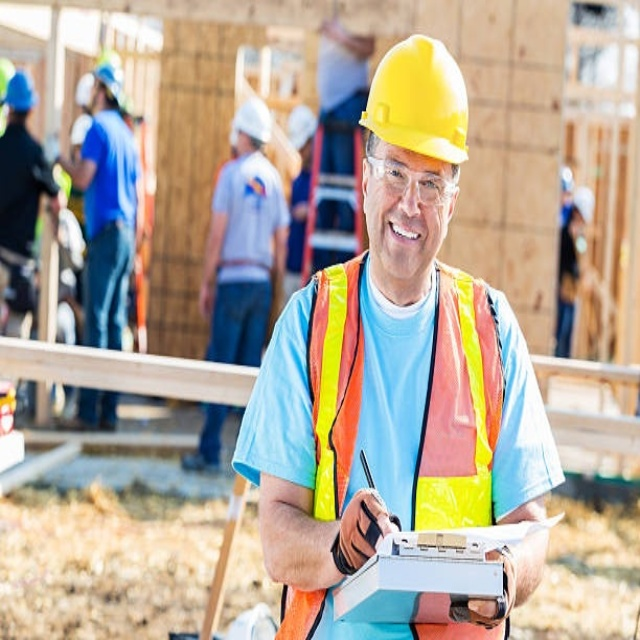Gafas: (368, 155, 458, 209)
Sin_guantes: (331, 485, 396, 576), (451, 542, 519, 627)
Sin_mascara: (385, 215, 424, 265)
